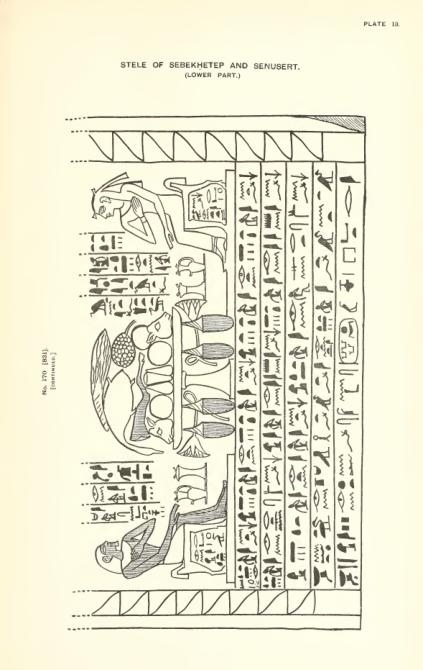circle: (337, 316, 362, 366)
